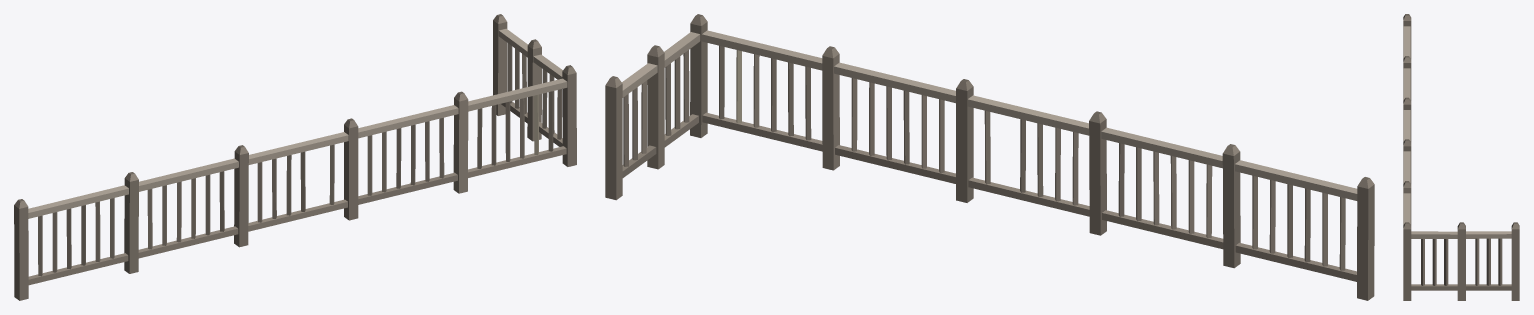
The model's file is prop_crypt_rail.glb.
The picture shows the model from 3 angles, left to right: view 1: azimuth 30°, elevation 25°; view 2: azimuth 150°, elevation 25°; view 3: azimuth 270°, elevation 25°; orthographic projection. The views are drawn at different scales.
Visible parts, largest first — view 1: CryptRail; view 2: CryptRail; view 3: CryptRail.
Part boxes in pixels (x1=…): CryptRail: x1=14, y1=14, x2=576, y2=300; CryptRail: x1=605, y1=14, x2=1374, y2=300; CryptRail: x1=1403, y1=14, x2=1519, y2=300.
Bounding box in the file's own units: 6.15 × 1.03 × 1.43.
